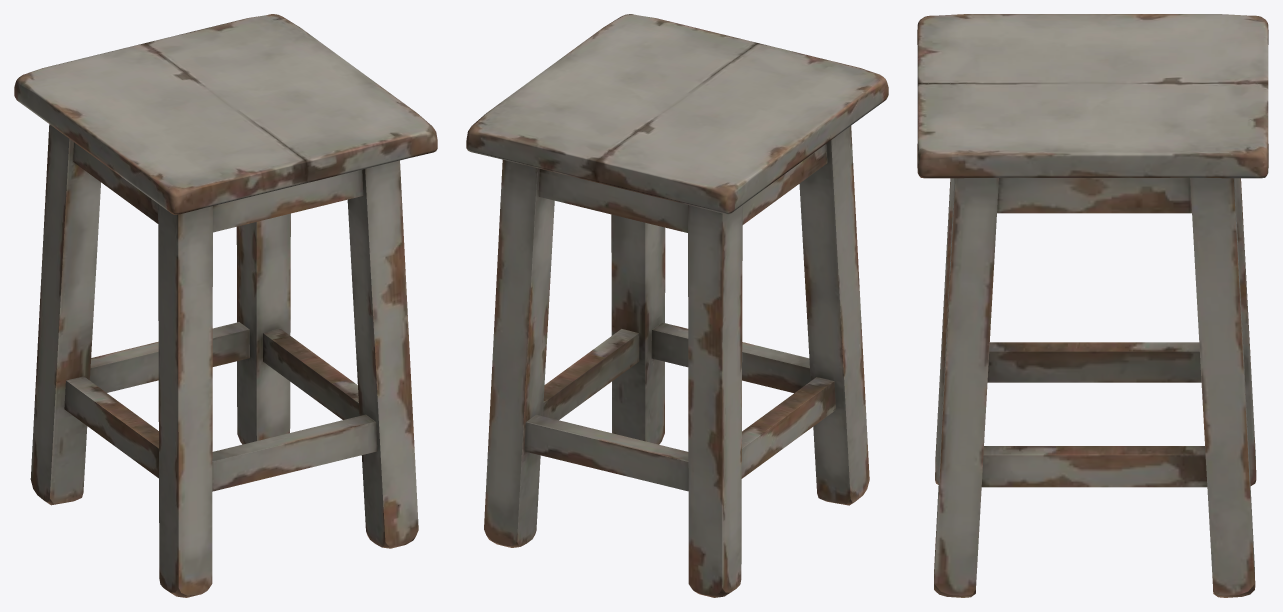
File: painted_wooden_stool.glb
3 views of the same model, side by side, from view 1: azimuth 30°, elevation 25°; view 2: azimuth 150°, elevation 25°; view 3: azimuth 270°, elevation 25° (orthographic). The views are drawn at different scales.
Parts seen in each view (by area): view 1: painted_wooden_stool; view 2: painted_wooden_stool; view 3: painted_wooden_stool.
Part boxes in pixels (left/top/right/bottom): painted_wooden_stool: left=14, top=14, right=437, bottom=597; painted_wooden_stool: left=466, top=14, right=888, bottom=597; painted_wooden_stool: left=917, top=14, right=1268, bottom=597.
Size of the model in its own units: 0.3848 by 0.5789 by 0.406.
Materials: 1 (1 with a texture image).
